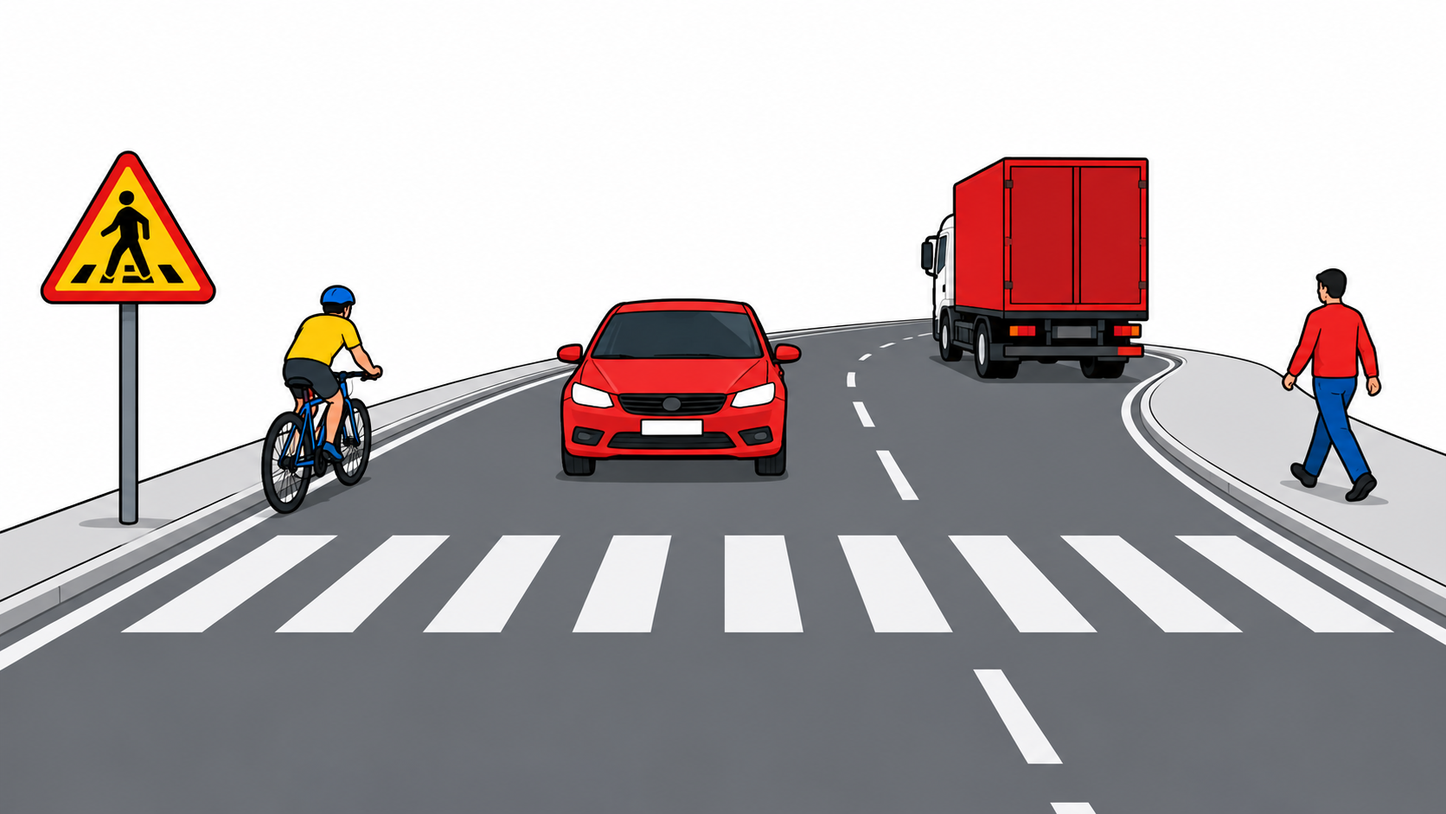bicycle: (259, 364, 382, 514)
car: (555, 299, 803, 478)
crossing_warning_sign: (41, 151, 215, 304)
person: (1281, 268, 1382, 503), (282, 285, 383, 468)
truck: (920, 157, 1155, 383)
zebra_crossing: (120, 534, 1411, 634)
